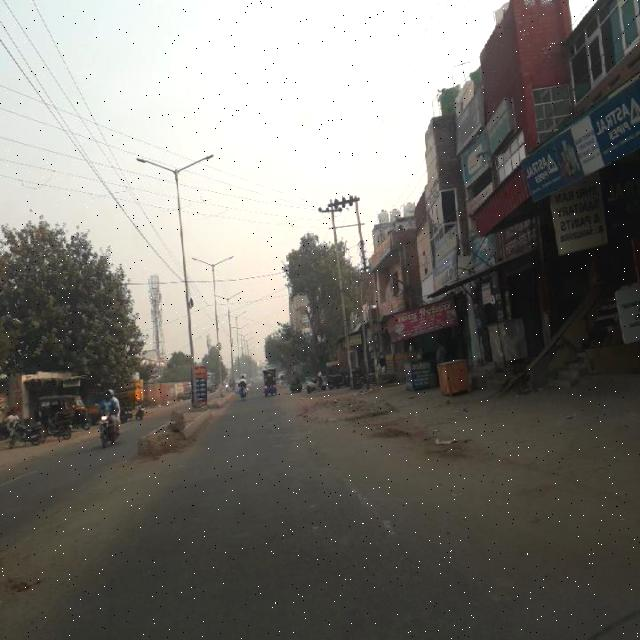D40: (251, 424, 313, 452)
D44: (330, 469, 402, 537)
